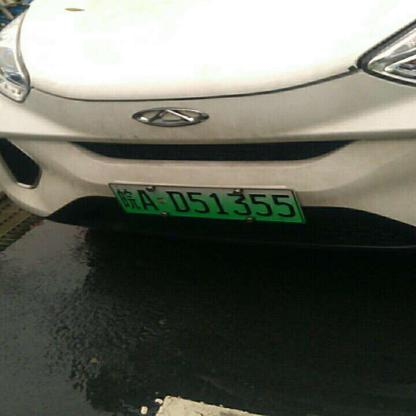lp: (110, 184, 304, 221)
